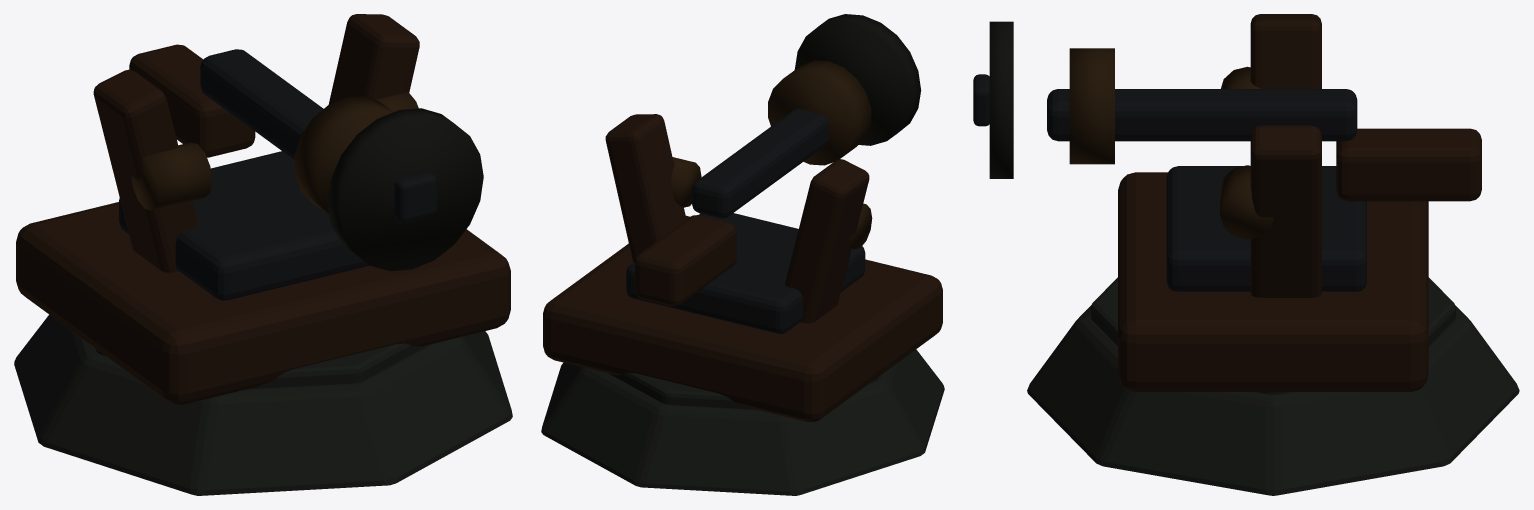
The model's file is TowerBounce0_pose.obj.
3 views of the same model, side by side, from view 1: azimuth 30°, elevation 25°; view 2: azimuth 150°, elevation 25°; view 3: azimuth 270°, elevation 25° (orthographic). The views are drawn at different scales.
Visible parts, largest first — view 1: cut_stone_socket_lower_course, heavy_oak_table, throwing_disc, iron_swivel, oak_throwing_cheek, iron_throw_arm, counterweight_beam, oak_throwing_cheek.001, bronze_sling_drum, bronze_pivot_pin, cut_stone_socket_upper_course, dark_disc_hub; view 2: heavy_oak_table, cut_stone_socket_lower_course, iron_swivel, throwing_disc, oak_throwing_cheek, oak_throwing_cheek.001, iron_throw_arm, counterweight_beam, bronze_sling_drum, cut_stone_socket_upper_course, bronze_pivot_pin.001, bronze_pivot_pin; view 3: cut_stone_socket_lower_course, heavy_oak_table, iron_swivel, iron_throw_arm, oak_throwing_cheek.001, counterweight_beam, bronze_sling_drum, oak_throwing_cheek, throwing_disc, bronze_pivot_pin.001, cut_stone_socket_upper_course, dark_disc_hub.
Part boxes in pixels (x1,y1,x2,y2): cut_stone_socket_lower_course: (14,314,512,495); heavy_oak_table: (16,202,510,404); throwing_disc: (327,108,483,271); iron_swivel: (119,151,369,300); oak_throwing_cheek: (93,69,197,272); iron_throw_arm: (200,49,323,159); counterweight_beam: (129,44,255,157); oak_throwing_cheek.001: (328,14,419,104); bronze_sling_drum: (294,96,393,215); bronze_pivot_pin: (131,142,212,210); cut_stone_socket_upper_course: (95,343,428,389); dark_disc_hub: (394,172,437,221); heavy_oak_table: (543,215,942,421); cut_stone_socket_lower_course: (541,349,944,495); iron_swivel: (626,213,865,333); throwing_disc: (794,14,921,145); oak_throwing_cheek: (785,159,869,323); oak_throwing_cheek.001: (605,114,686,262); iron_throw_arm: (692,108,828,218); counterweight_beam: (634,215,736,306); bronze_sling_drum: (768,60,871,165); cut_stone_socket_upper_course: (609,372,878,409); bronze_pivot_pin.001: (671,157,701,207); bronze_pivot_pin: (848,203,872,249); cut_stone_socket_lower_course: (1027,305,1519,495); heavy_oak_table: (1118,172,1428,391); iron_swivel: (1166,166,1366,291); iron_throw_arm: (1047,89,1357,141); oak_throwing_cheek.001: (1250,125,1321,297); counterweight_beam: (1336,128,1481,201); bronze_sling_drum: (1069,48,1114,164); oak_throwing_cheek: (1250,14,1321,88); throwing_disc: (989,21,1013,178); bronze_pivot_pin.001: (1220,165,1273,239); cut_stone_socket_upper_course: (1090,277,1455,394); dark_disc_hub: (973,74,989,126).
Size of the model in its own units: 1.52 by 1.25 by 1.69.
